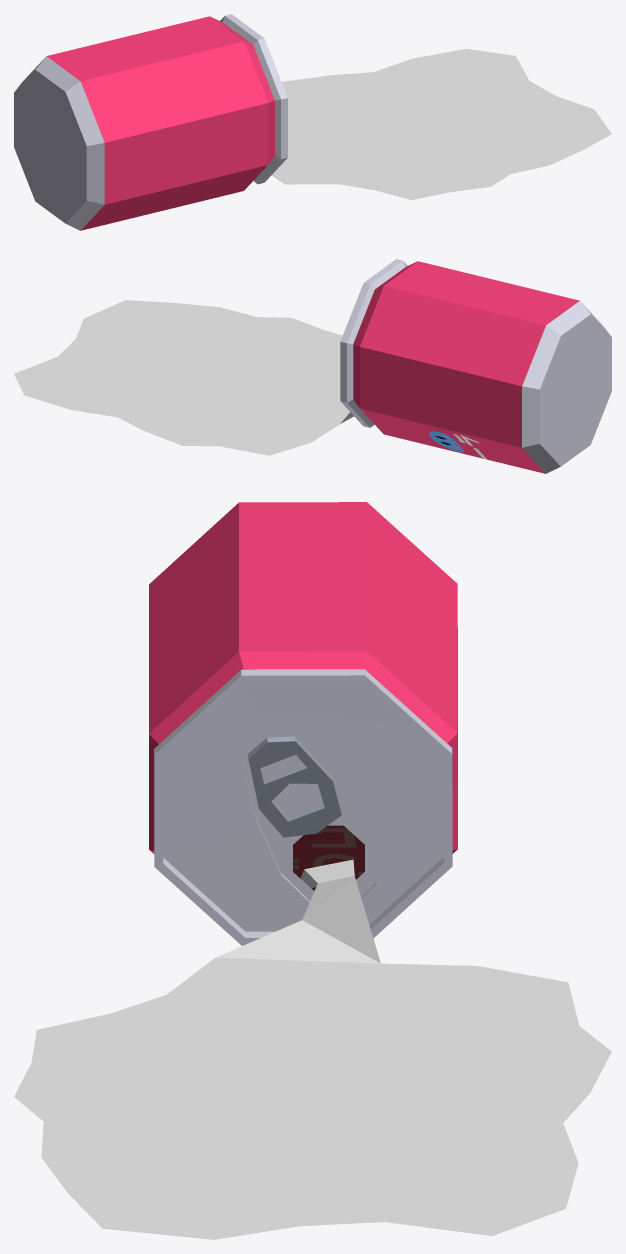
Rendered from water_kanbottle.fbx.
3 renders of one model, top to bottom at view 1: azimuth 30°, elevation 25°; view 2: azimuth 150°, elevation 25°; view 3: azimuth 270°, elevation 25°, orthographic. The views are drawn at different scales.
Parts seen in each view (by area): view 1: cola, 円.001; view 2: cola, 円.001; view 3: 円.001, cola, pull, juice.
Boxes of the visible parts, left/top/right/bottom form: cola: left=14, top=14, right=287, bottom=230; 円.001: left=272, top=48, right=611, bottom=199; cola: left=340, top=259, right=611, bottom=473; 円.001: left=14, top=300, right=353, bottom=455; 円.001: left=14, top=859, right=611, bottom=1239; cola: left=149, top=502, right=457, bottom=945; pull: left=247, top=736, right=341, bottom=837; juice: left=293, top=825, right=364, bottom=890.
Size of the model in its own units: 763 by 210 by 406.
